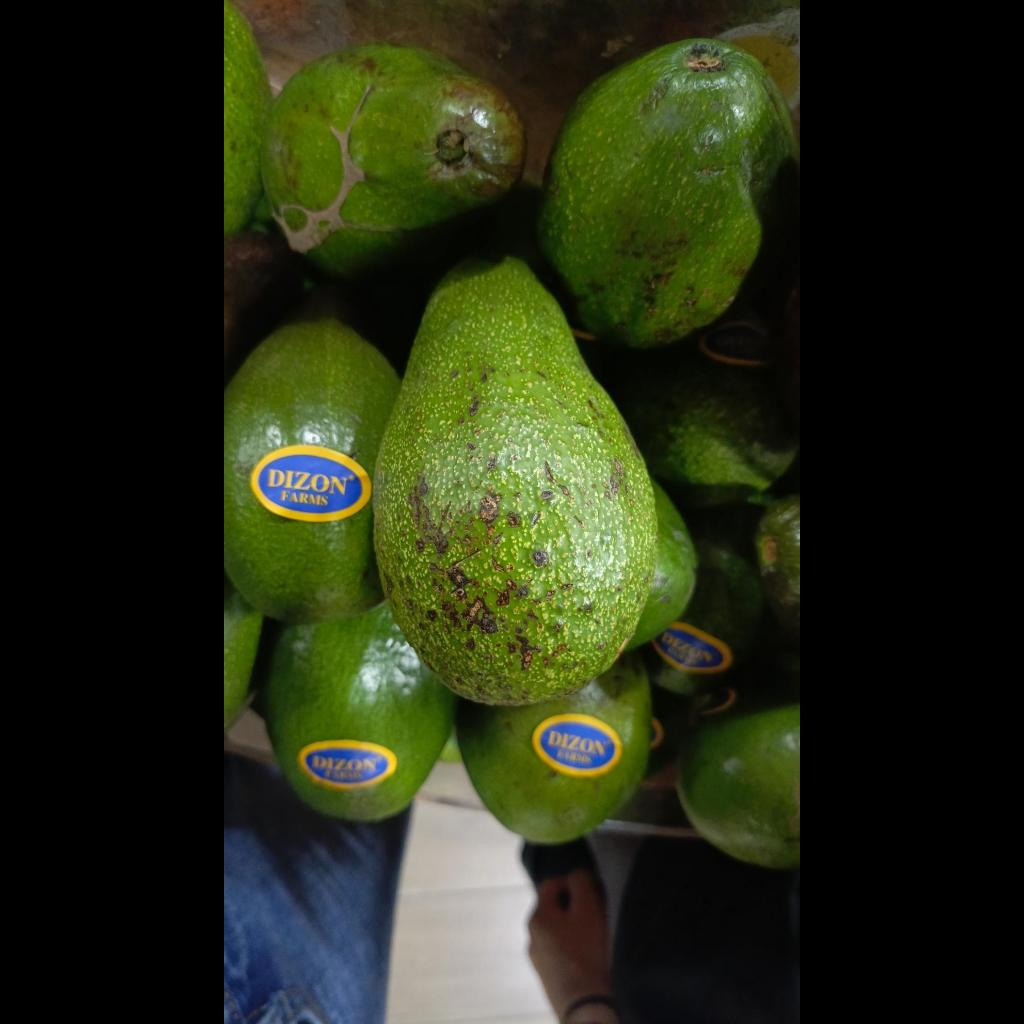rona: (374, 257, 655, 704)
